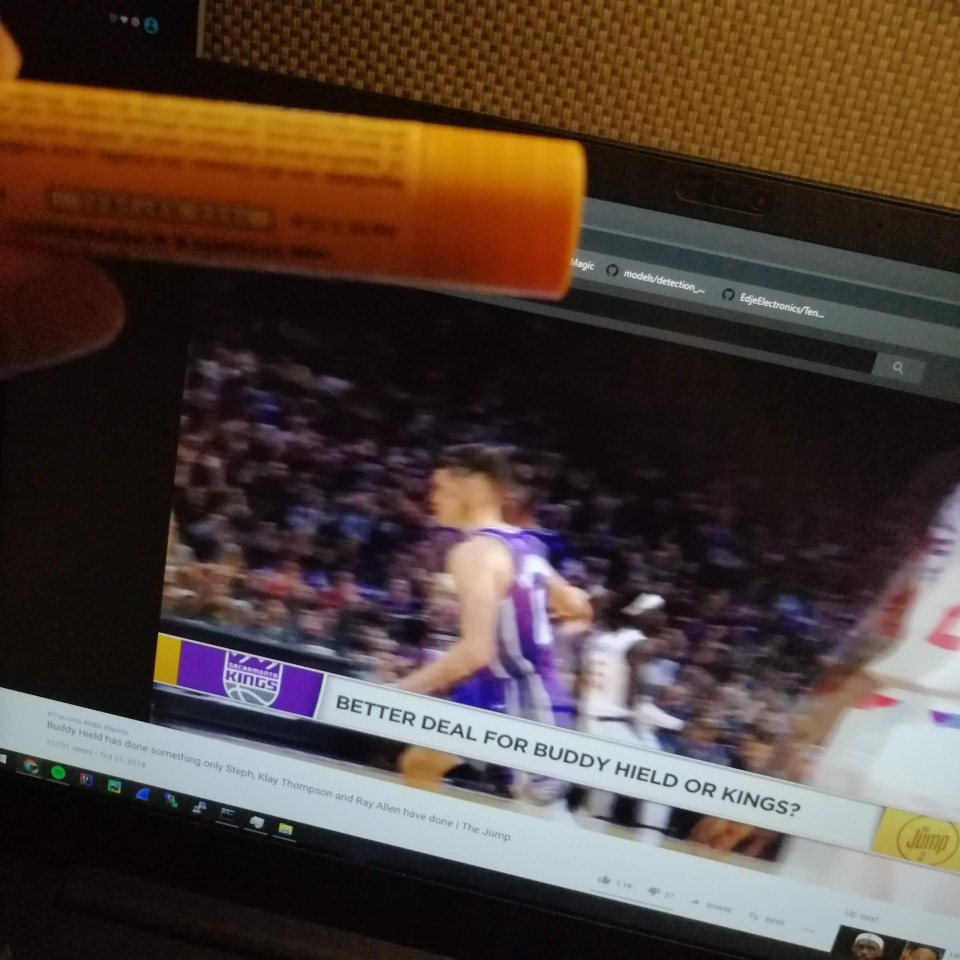chapstick: (1, 69, 590, 321)
